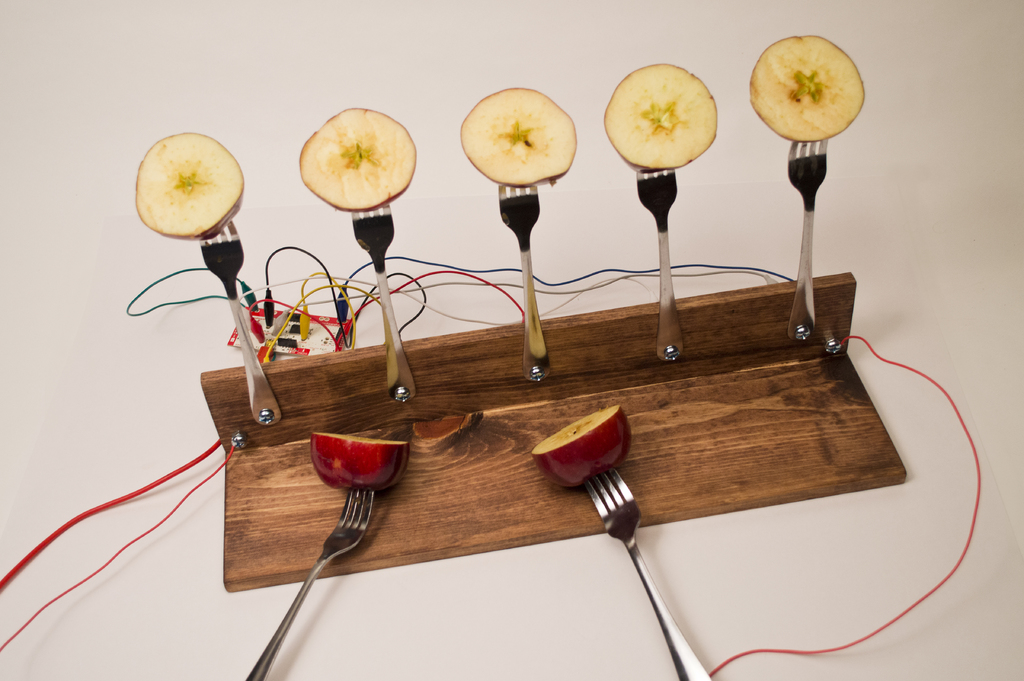Apple: (600, 58, 720, 166), (131, 133, 247, 240), (750, 37, 866, 144), (296, 108, 414, 211), (459, 85, 577, 183), (531, 403, 634, 492), (308, 435, 414, 492)
